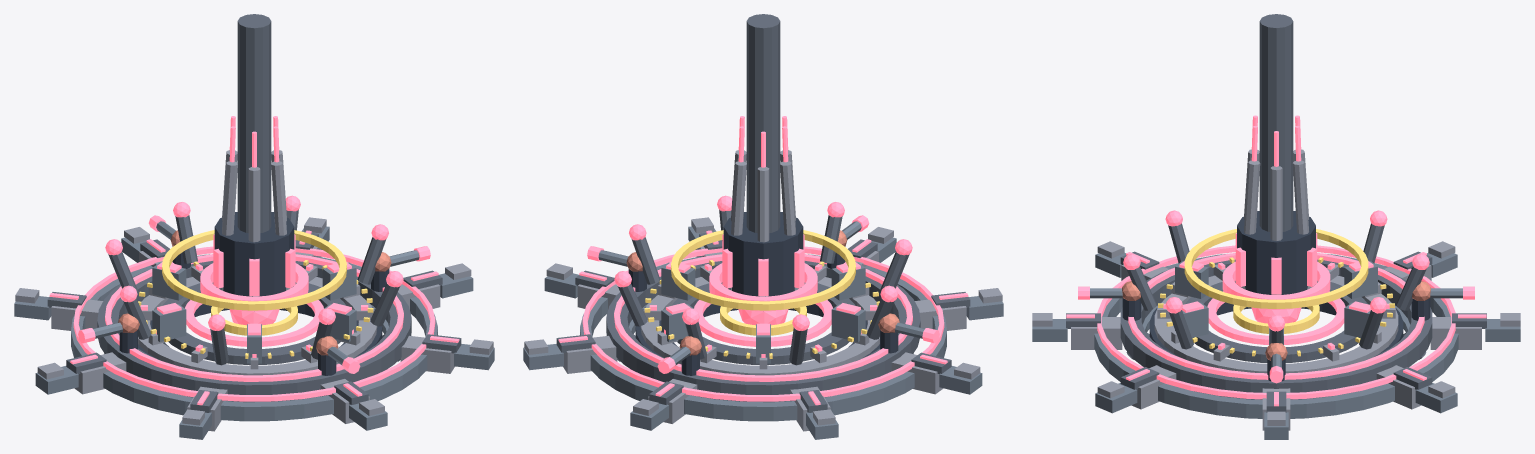
Rendered from relay_3_mars.glb.
The picture shows the model from 3 angles, left to right: view 1: azimuth 30°, elevation 25°; view 2: azimuth 150°, elevation 25°; view 3: azimuth 270°, elevation 25°; orthographic projection.
Visible parts, largest first — view 1: RLY_2, RLY_3, RLY_4, RLY_1, RLY_0, RLY_5, RLY_6; view 2: RLY_2, RLY_3, RLY_4, RLY_1, RLY_0, RLY_5, RLY_6; view 3: RLY_2, RLY_3, RLY_1, RLY_4, RLY_0, RLY_5, RLY_6.
Part boxes in pixels (x1=…): RLY_2: x1=47, y1=14, x2=461, y2=412; RLY_3: x1=49, y1=116, x2=459, y2=405; RLY_4: x1=14, y1=221, x2=494, y2=439; RLY_1: x1=15, y1=150, x2=493, y2=431; RLY_0: x1=119, y1=212, x2=389, y2=375; RLY_5: x1=138, y1=230, x2=373, y2=358; RLY_6: x1=118, y1=230, x2=391, y2=355; RLY_2: x1=556, y1=14, x2=970, y2=412; RLY_3: x1=558, y1=116, x2=968, y2=405; RLY_4: x1=523, y1=221, x2=1003, y2=439; RLY_1: x1=524, y1=150, x2=1002, y2=431; RLY_0: x1=628, y1=212, x2=898, y2=375; RLY_5: x1=644, y1=230, x2=879, y2=358; RLY_6: x1=626, y1=230, x2=899, y2=355; RLY_2: x1=1066, y1=14, x2=1486, y2=412; RLY_3: x1=1066, y1=115, x2=1486, y2=406; RLY_1: x1=1032, y1=149, x2=1520, y2=430; RLY_4: x1=1032, y1=253, x2=1520, y2=439; RLY_0: x1=1122, y1=211, x2=1430, y2=381; RLY_5: x1=1158, y1=229, x2=1394, y2=356; RLY_6: x1=1122, y1=281, x2=1430, y2=360.
Size of the model in its own units: 10.48 by 8.01 by 10.48.
